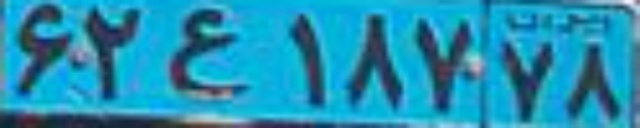1: (283, 11, 327, 108)
2: (79, 3, 142, 100)
6: (12, 2, 70, 98)
7: (414, 13, 475, 113), (492, 37, 551, 123)
8: (340, 13, 404, 110), (563, 41, 624, 123)
ain: (161, 6, 251, 101)
